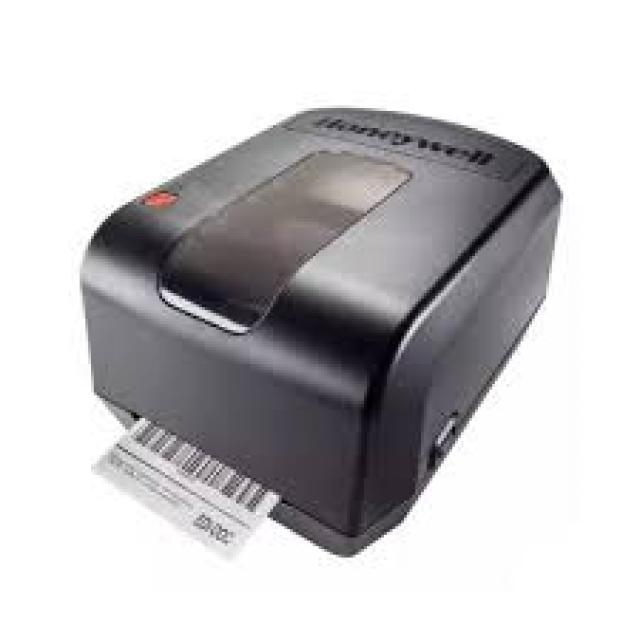printer: (77, 102, 563, 558)
